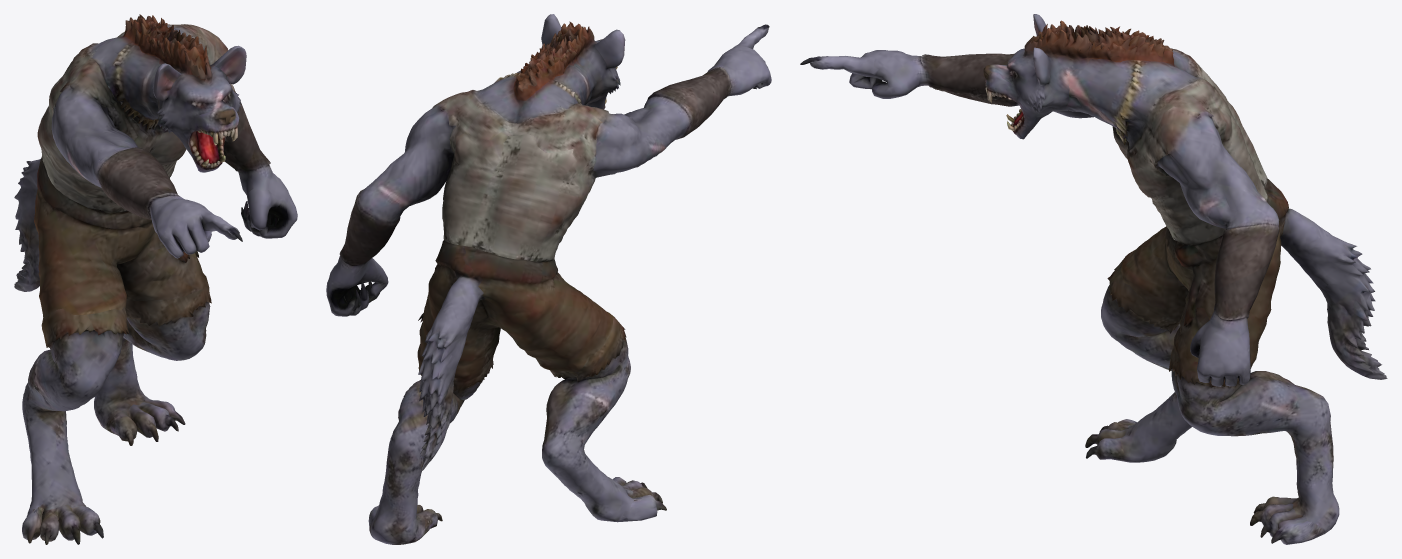
The model's file is MZ4250 - Gnoll Fang of Yeenoghu 2025.glb.
3 renders of one model, left to right at view 1: azimuth 30°, elevation 25°; view 2: azimuth 150°, elevation 25°; view 3: azimuth 270°, elevation 25°, orthographic. The views are drawn at different scales.
Visible parts, largest first — view 1: Body.001; view 2: Body.001; view 3: Body.001.
Boxes of the visible parts, box(x1,y1,x2,y2) form: Body.001: box(14, 14, 297, 544); Body.001: box(326, 14, 771, 544); Body.001: box(800, 14, 1387, 544).
Size of the model in its own units: 54.83 by 81.54 by 91.9.
1 material, 1 textured.
